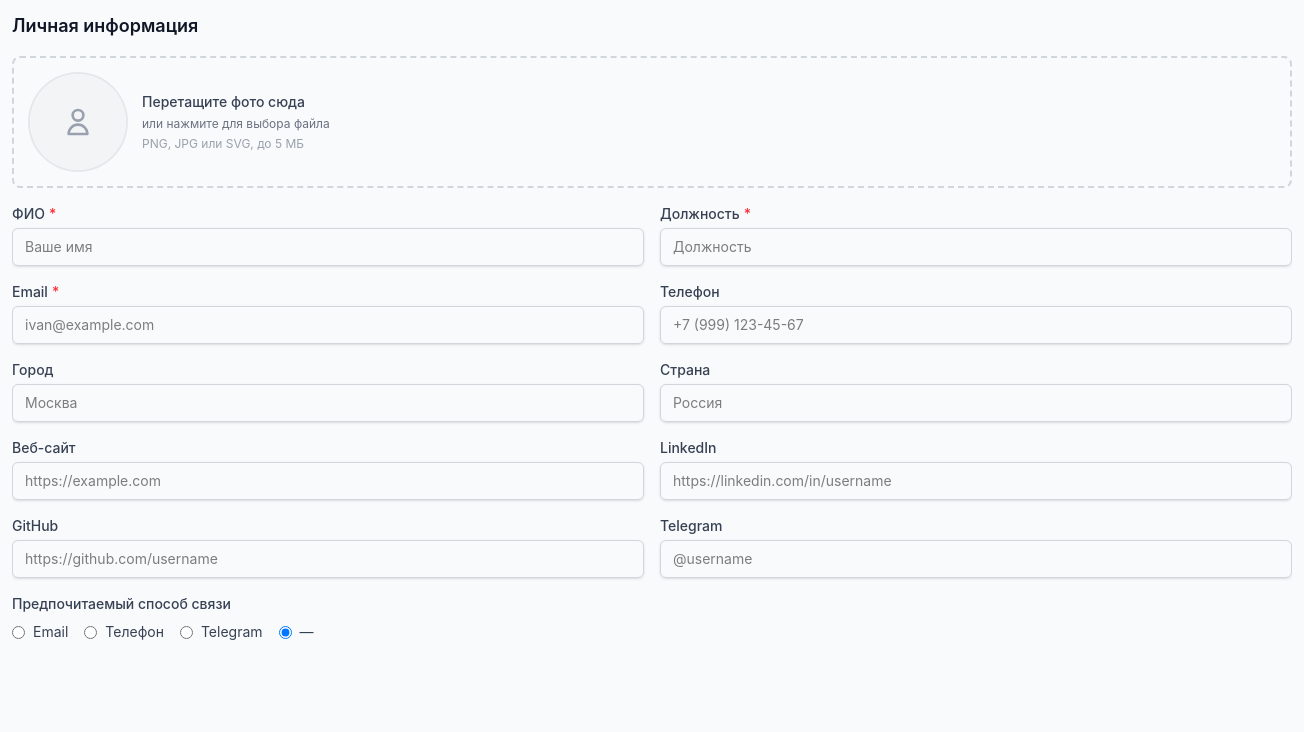
Test: PersonalInfoForm › should show error for invalid email
The image size is (1304, 732).
Type "invalid-email" into the field with placeholder "ivan@example.com". click: (328, 325)
box: [12,306,644,344]
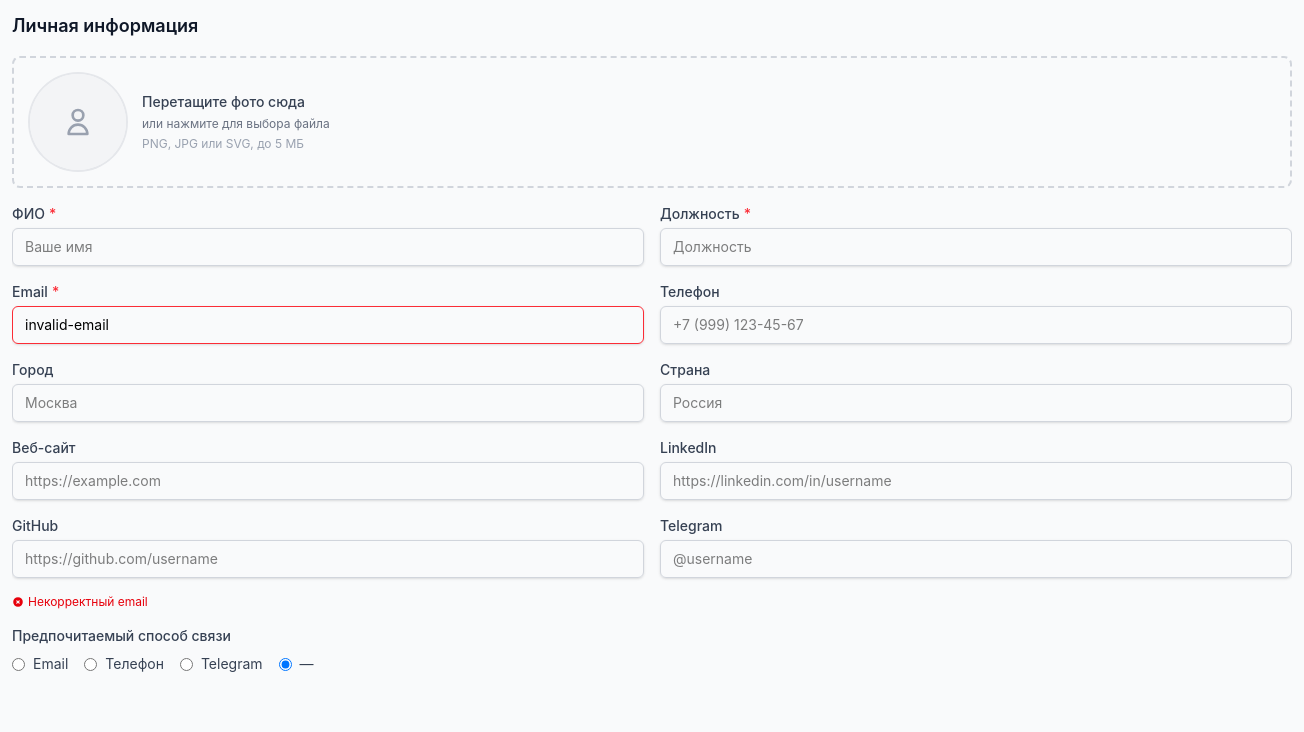
expect the text "Некорректный email" is shown: met, box [12,594,148,609]
